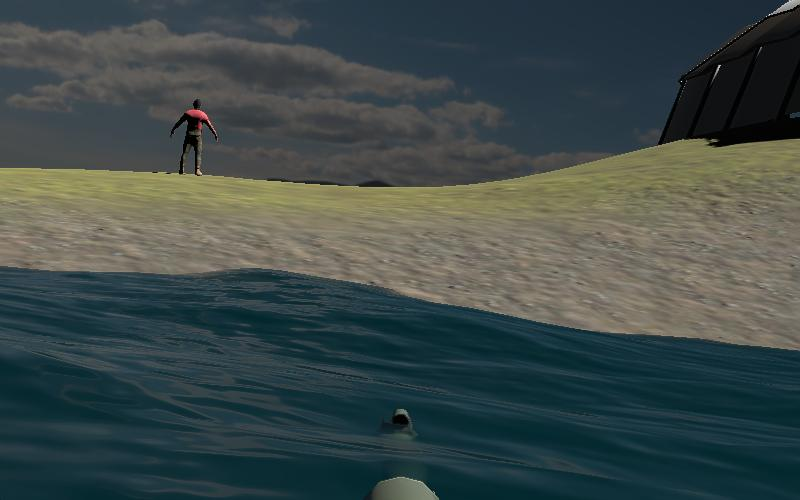Human: (169, 97, 218, 177)
